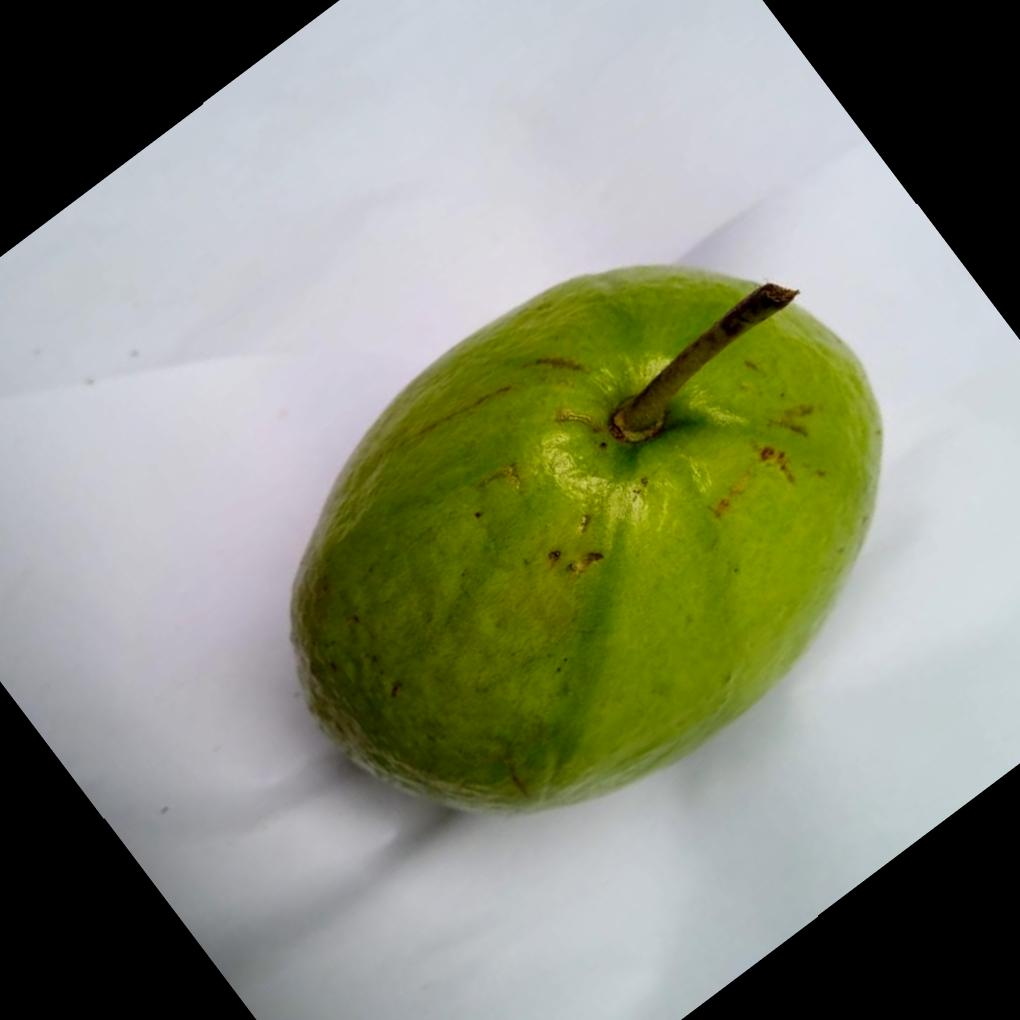FreshGuava: (289, 264, 888, 818)
